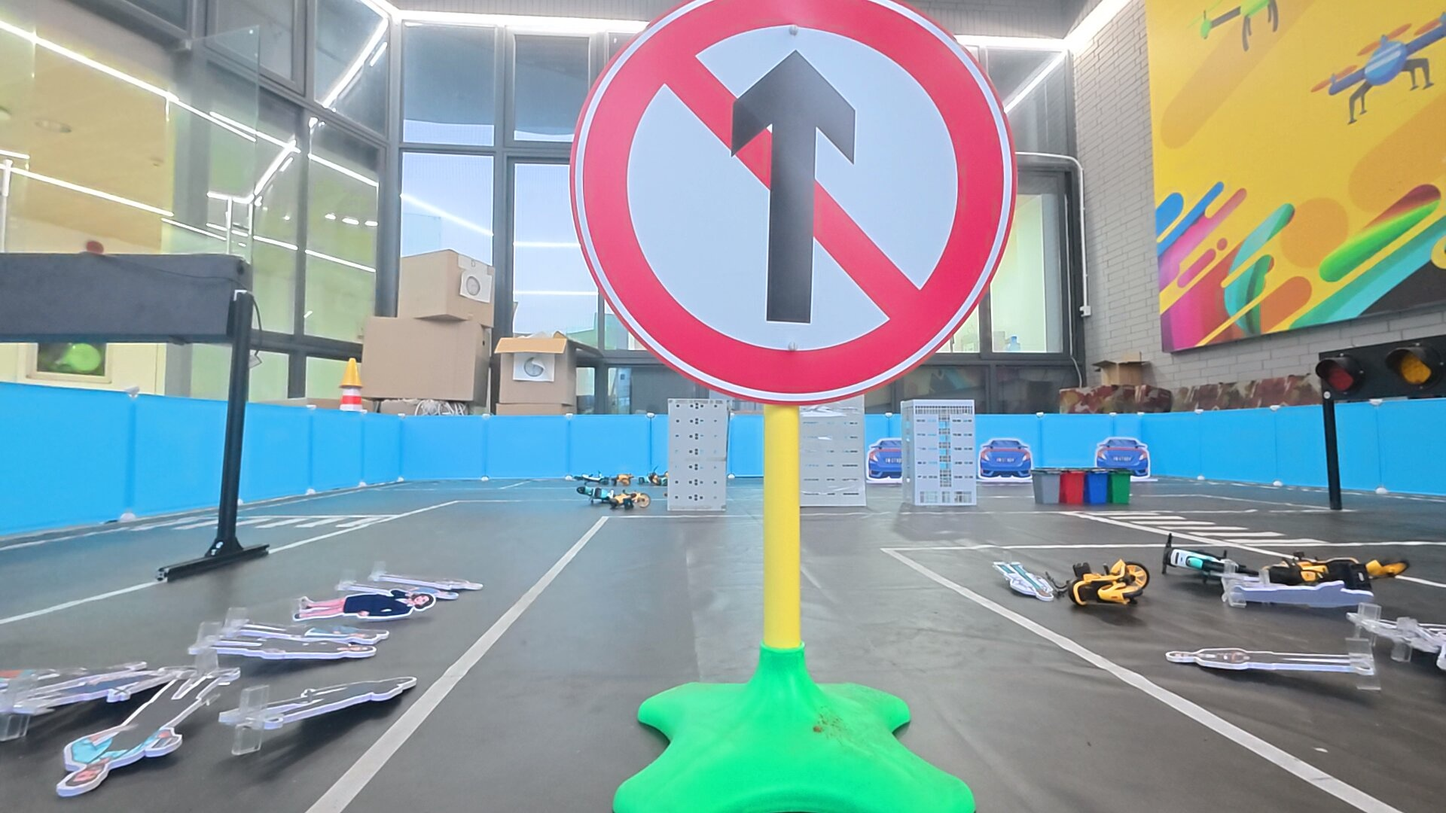obstacle: (560, 0, 1020, 398)
